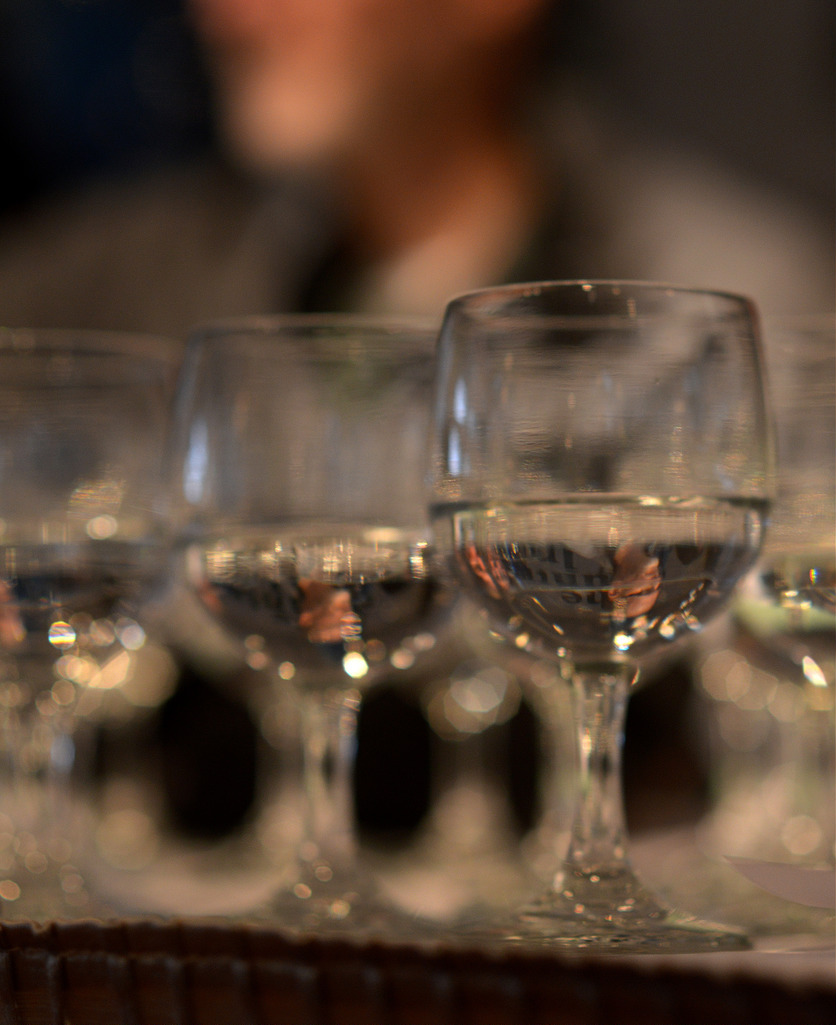glass of water: (431, 262, 792, 989), (133, 309, 502, 928), (1, 320, 196, 952)
